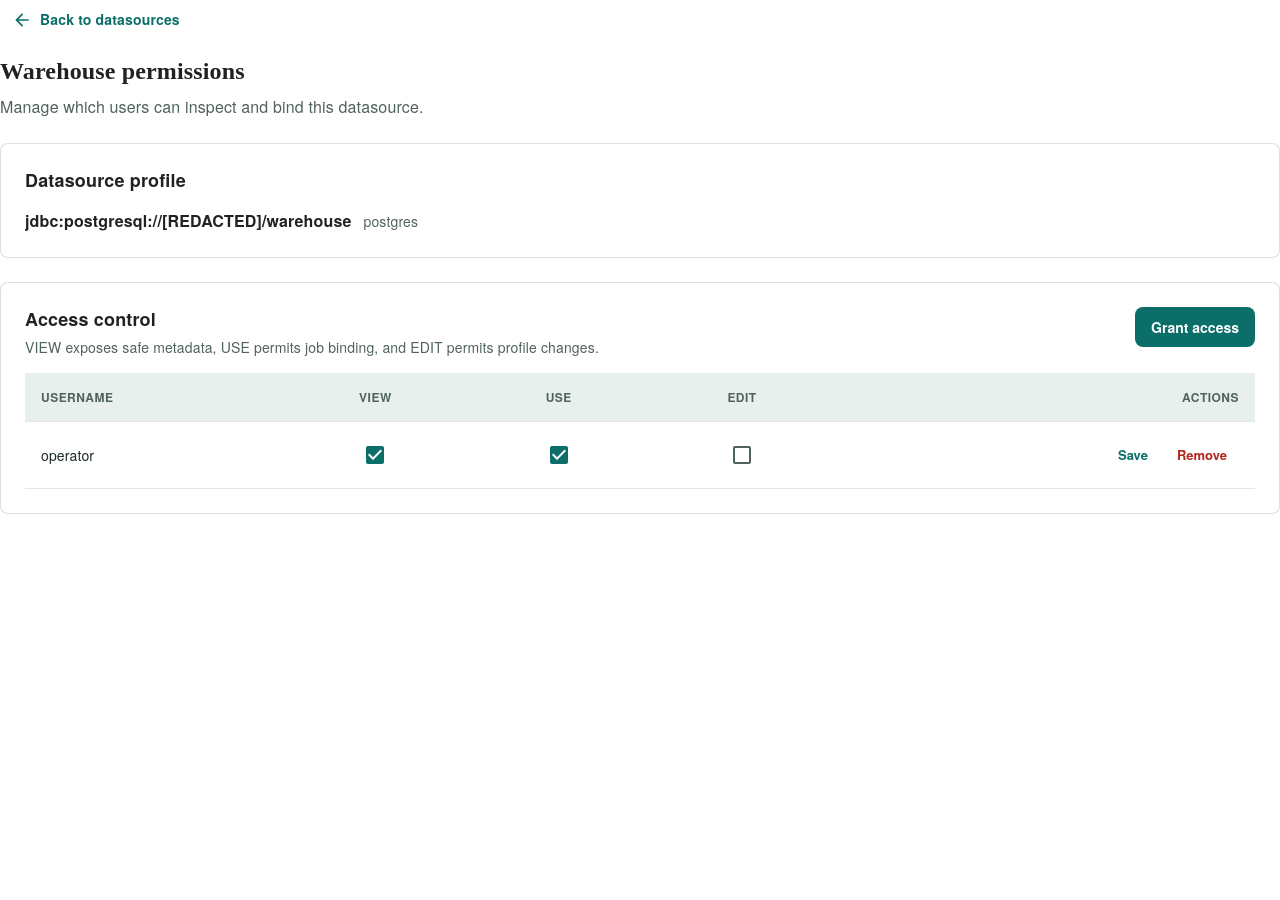
it: DatasourcePermissionsPage › requires a user and permission before granting new access
Step 1. Click the button "Grant access" → (1195, 327), box x1=1135 y1=307 x2=1255 y2=347
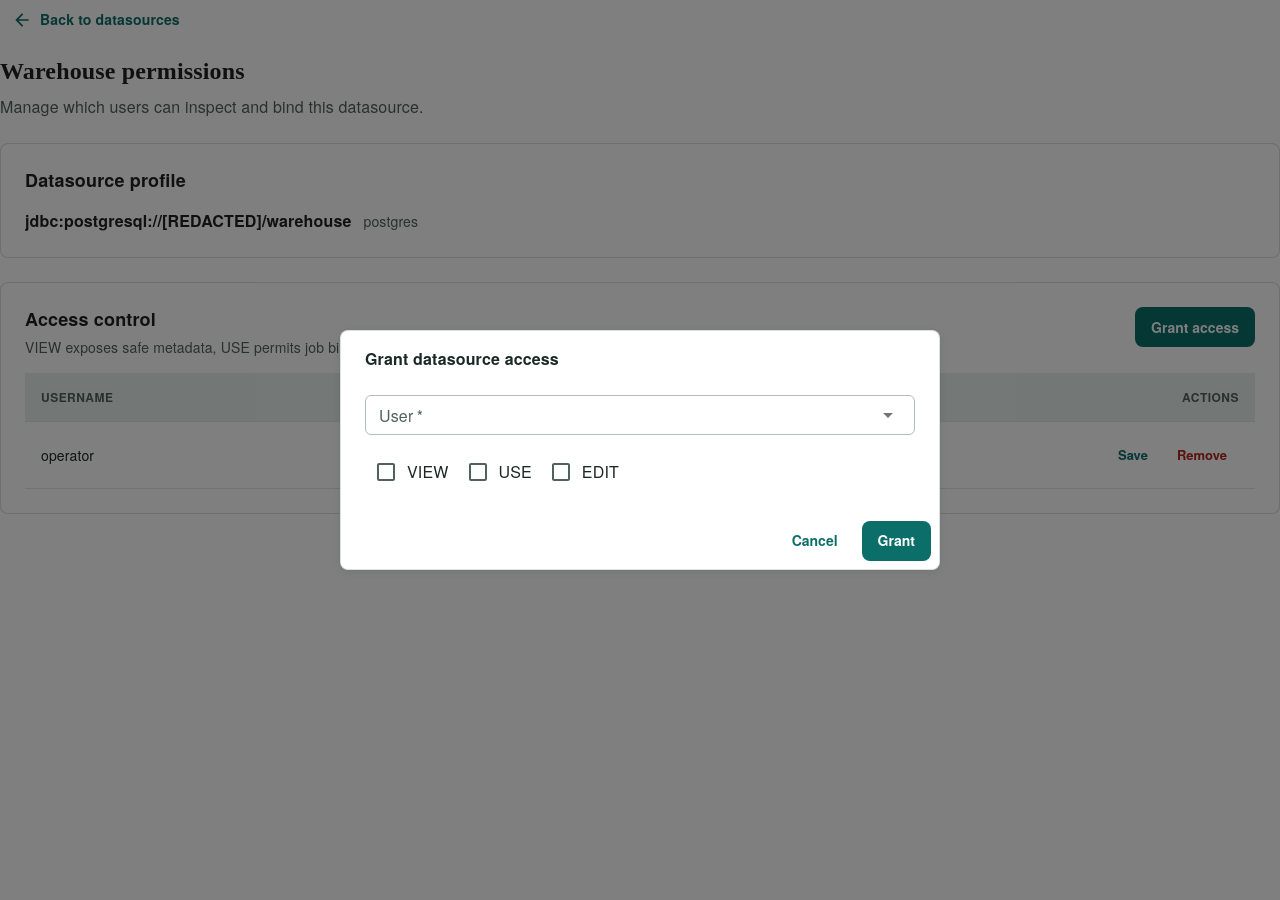
Step 2. Click the button "Grant" → (896, 541), box x1=862 y1=521 x2=931 y2=561
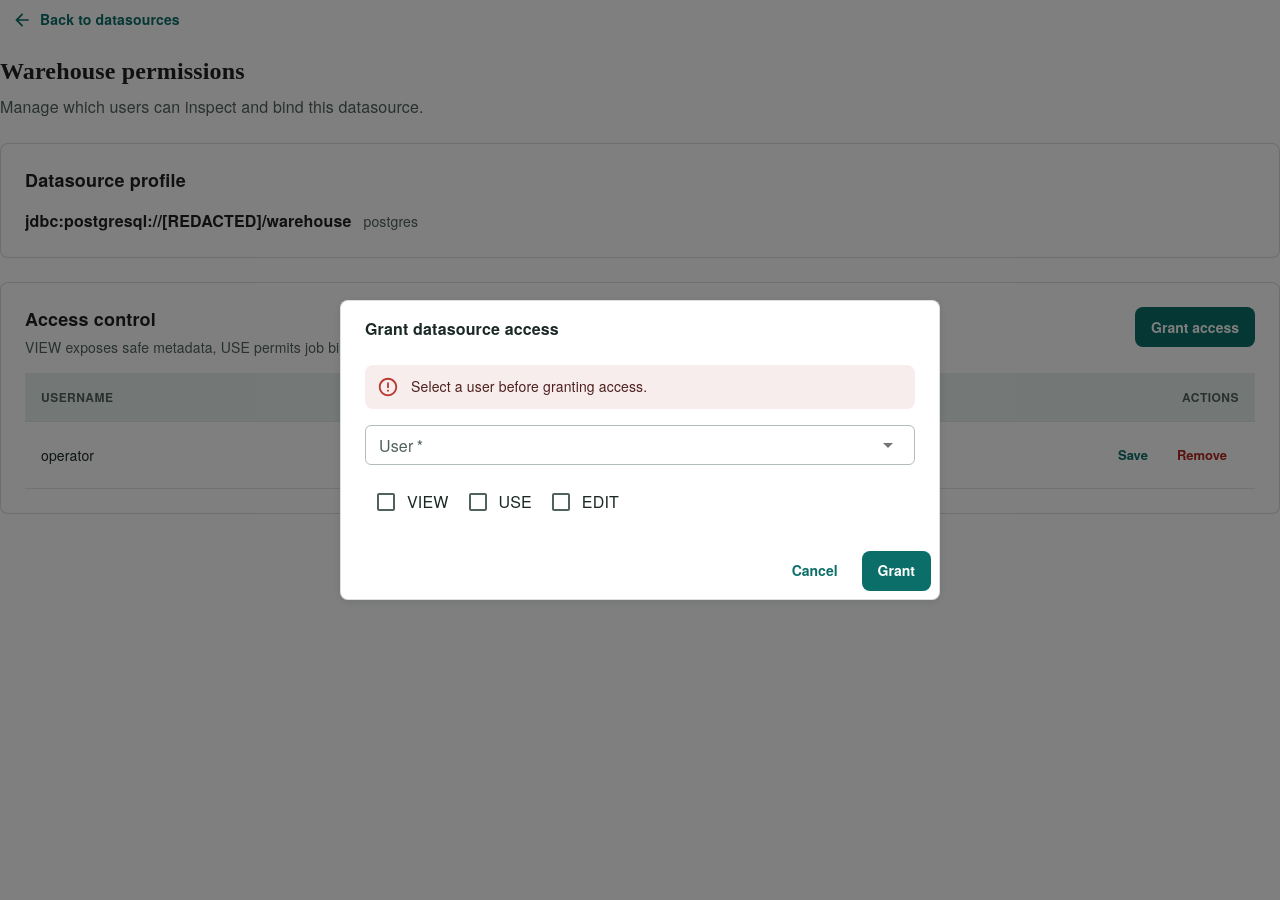
Result: the text "Select a user before granting access." is shown at x1=411 y1=373 x2=647 y2=399
